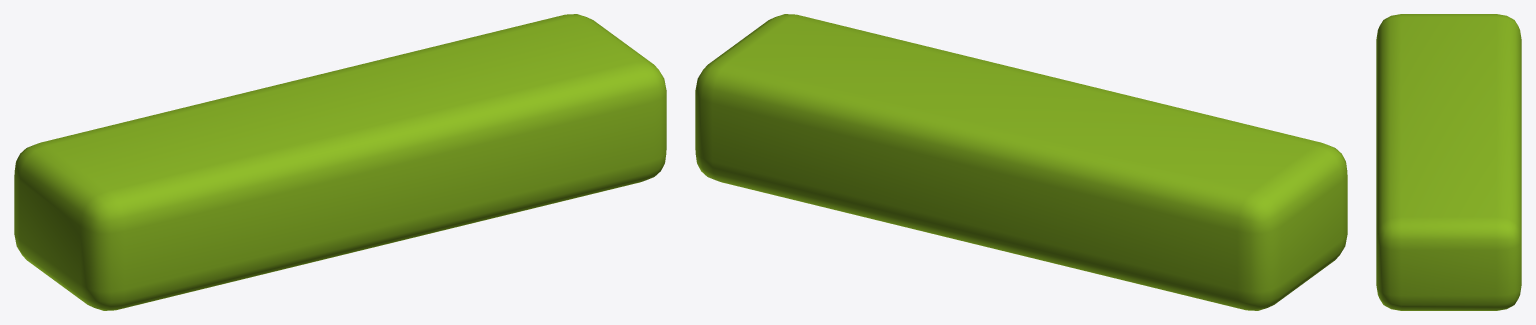
File: ground_type_02.FBX
3 renders of one model, left to right at view 1: azimuth 30°, elevation 25°; view 2: azimuth 150°, elevation 25°; view 3: azimuth 270°, elevation 25°, orthographic. The views are drawn at different scales.
Parts seen in each view (by area): view 1: ground_type_02; view 2: ground_type_02; view 3: ground_type_02.
Part boxes in pixels (x1,y1,x2,y2): ground_type_02: (14, 14, 666, 310); ground_type_02: (695, 14, 1347, 310); ground_type_02: (1376, 14, 1521, 310).
Bounding box in the file's own units: 2087 × 580 × 400.
Materials: 1 (1 with a texture image).
